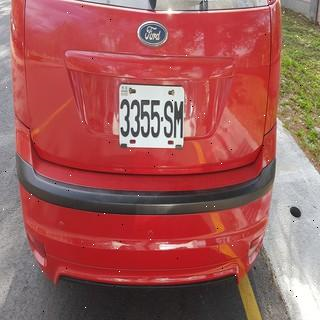license: (116, 92, 187, 140)
